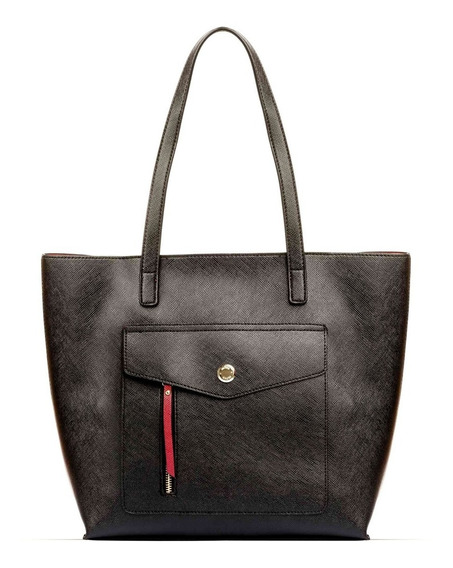cartera: (40, 26, 413, 542)
